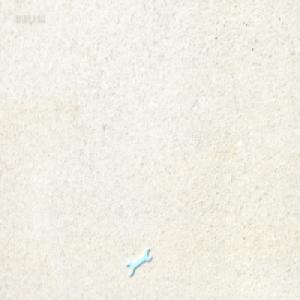Wrench: (126, 246, 151, 275)
